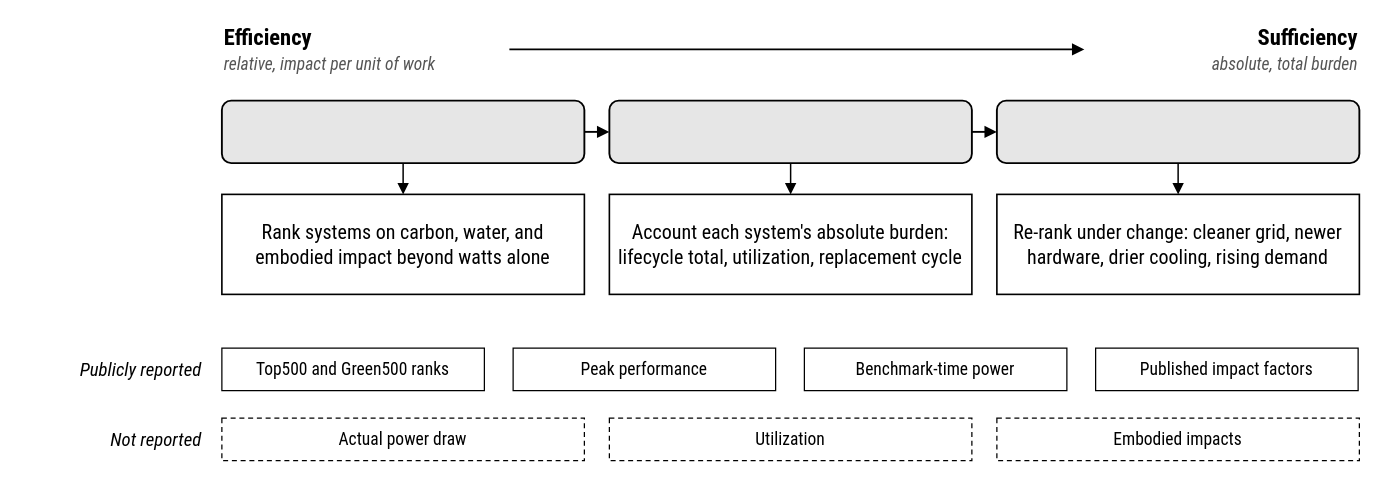
The diagram is 1381 pixels wide and 483 high, and some of its shapes have lost their labels. Each missing label, with the centre of its shape:
"Step 1: Wider ranking" belongs at [402,131].
"Step 2: Sufficiency indicators" belongs at [790,131].
"Step 3: What-if scenarios" belongs at [1177,131].
